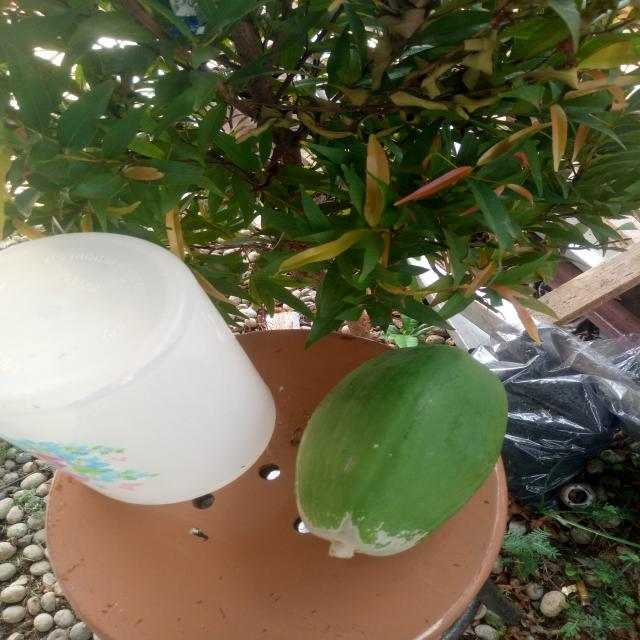Pepaya unrippen: (295, 339, 522, 558)
